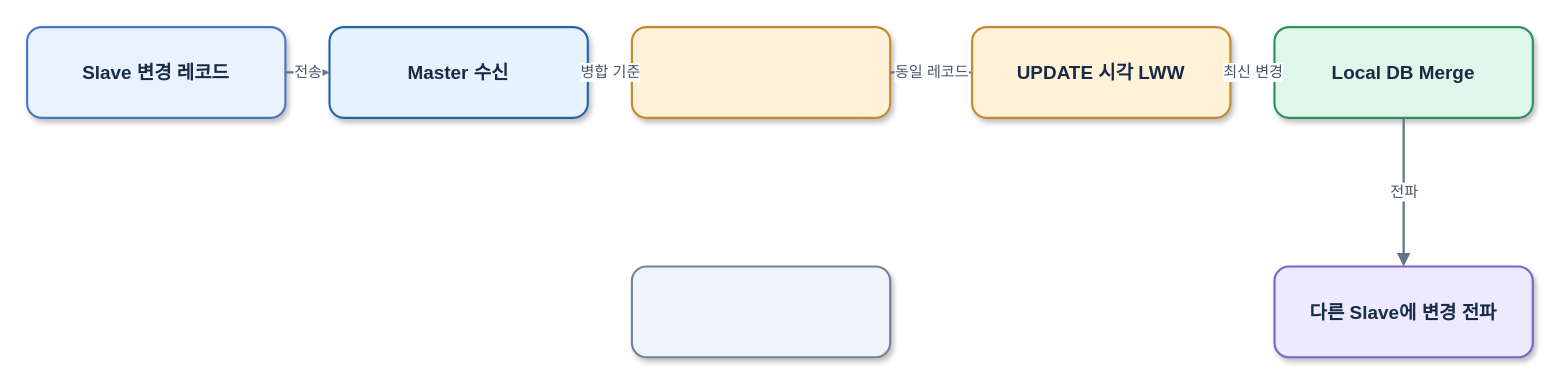
Image size: 1564x389. Some labels were removed from this diagram. The centre of each missing label's shape, as x and y in pixels:
"업무 Key / Unique Key 확인" belongs at point 761,73.
"일부 일괄 저장은 Master만 수정" belongs at point 761,313.
